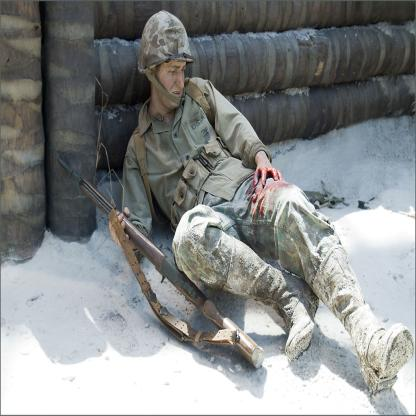Helmet: (136, 10, 193, 106)
